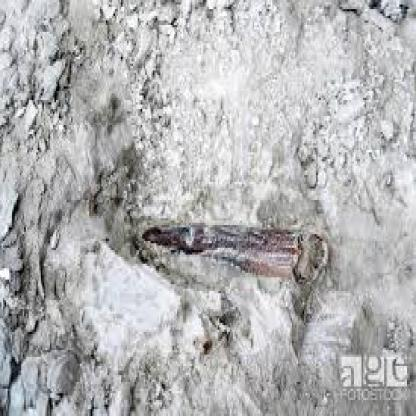Sedimentary_Chalk: (75, 34, 346, 196)
